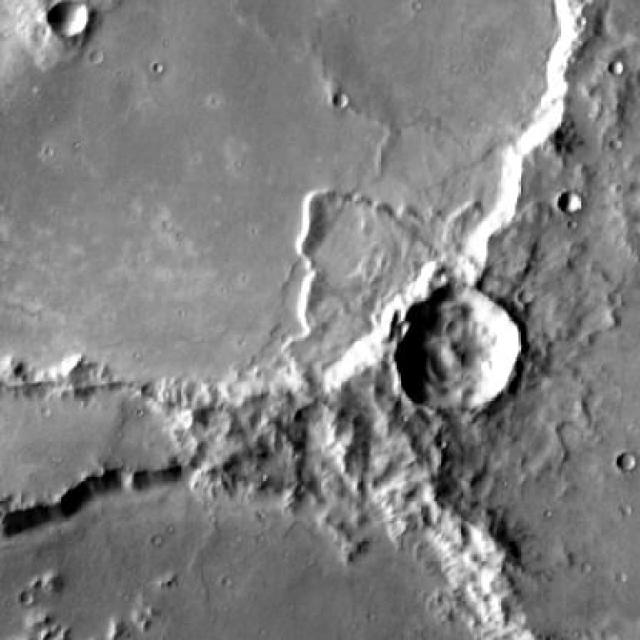crater: (0, 0, 575, 437), (396, 295, 526, 420), (47, 0, 90, 42), (557, 191, 580, 212), (617, 453, 637, 475)
